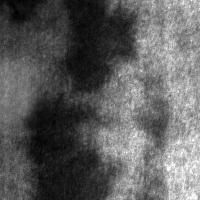patches: (24, 99, 109, 199), (0, 0, 106, 70), (64, 1, 133, 89), (51, 13, 111, 73), (0, 58, 44, 132), (1, 1, 43, 22)
